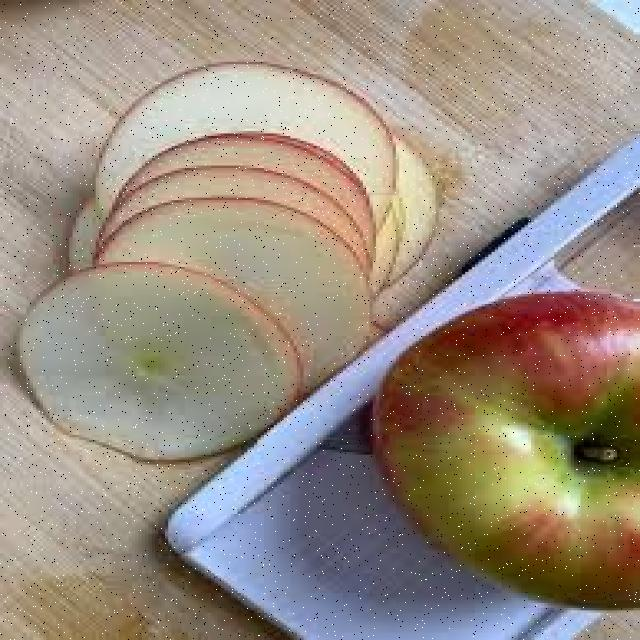Apple: (379, 292, 640, 610), (18, 263, 307, 459), (98, 197, 376, 380), (94, 62, 405, 194)
